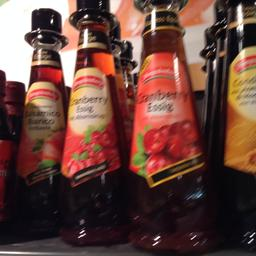vinegar: (121, 0, 222, 250), (62, 0, 129, 245), (8, 8, 66, 238)
